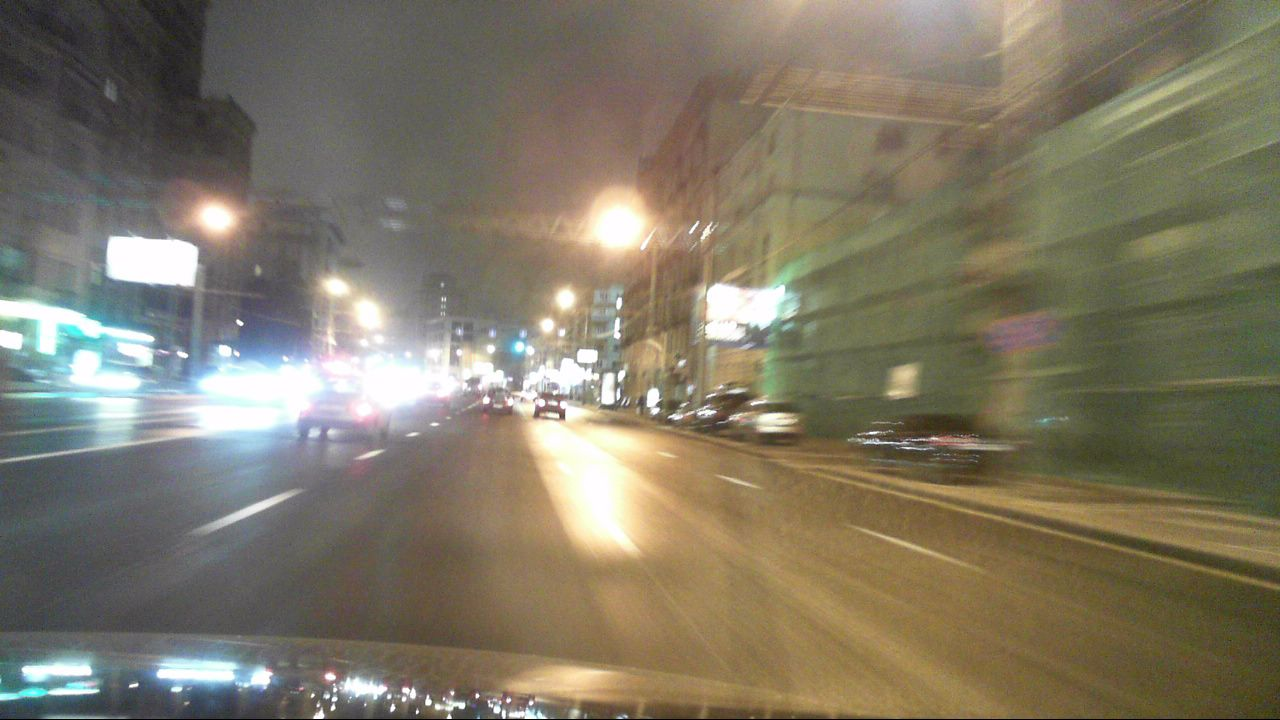No Parking: (990, 314, 1027, 349)
